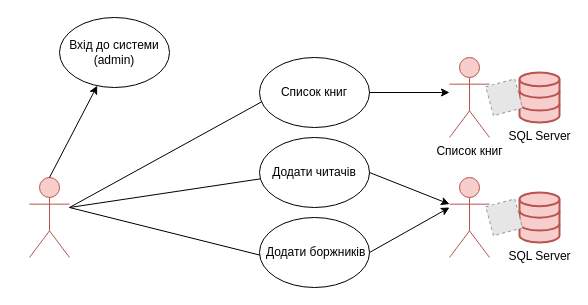
This 588x305 diagram has some shape labels left out. Grey dashed boxes stand in for pictures. The centre of each missing label's shape, as x and y in pixels:
"Бібліотекар" goes at pixel 49 217.
"Список читачів" goes at pixel 469 217.
